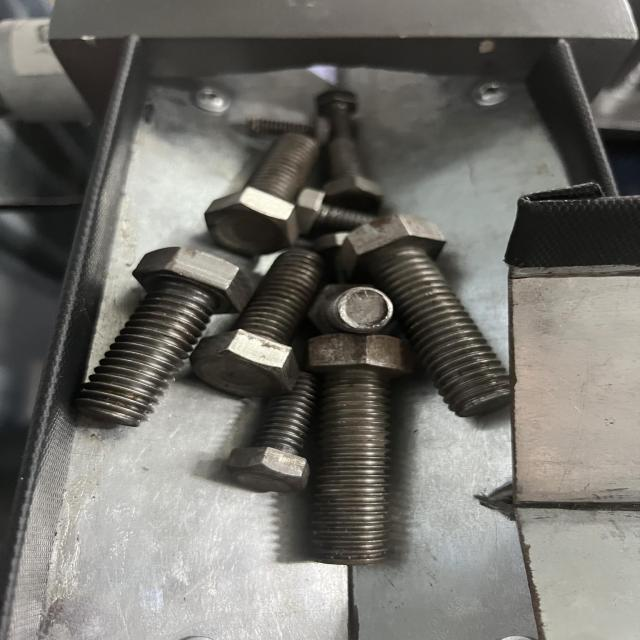bolt: (82, 244, 244, 423), (306, 330, 402, 567)
